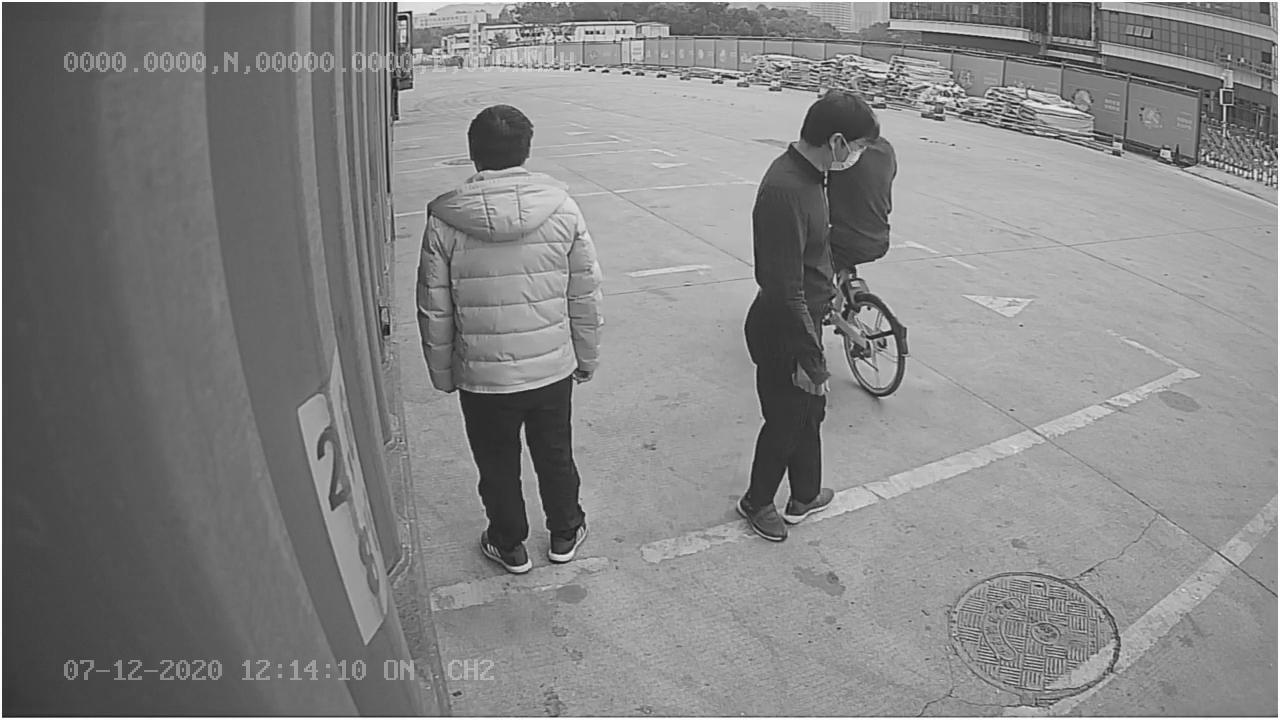person: (418, 98, 602, 573)
